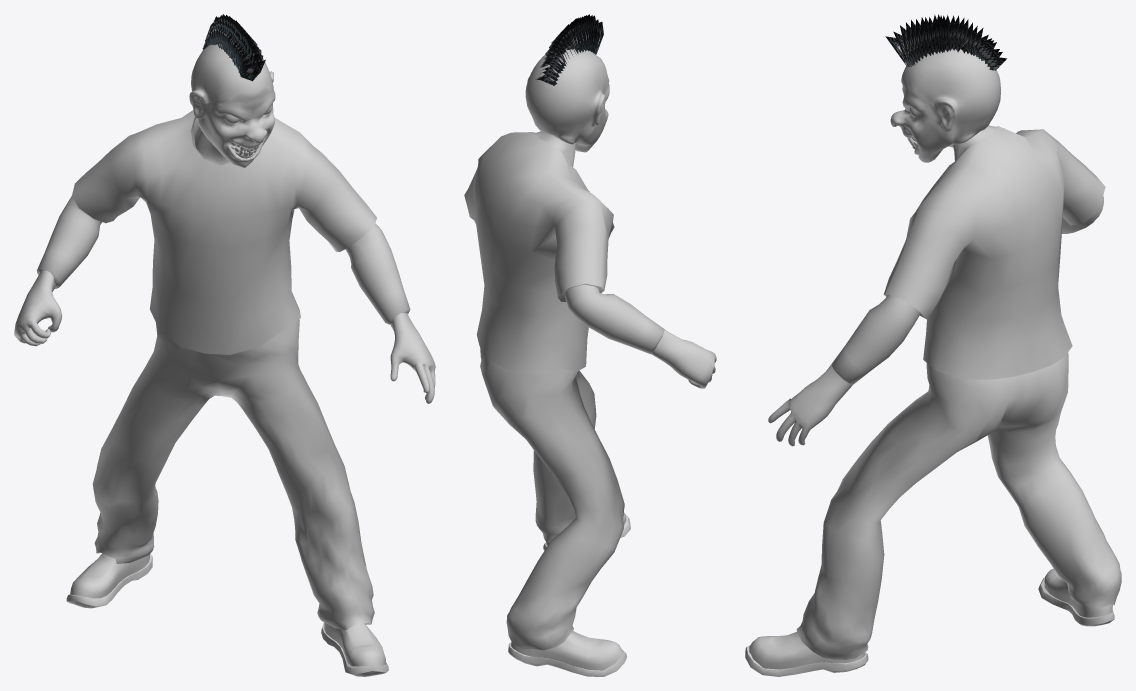
File: Attack02 (46).obj
The picture shows the model from 3 angles, left to right: view 1: azimuth 30°, elevation 25°; view 2: azimuth 150°, elevation 25°; view 3: azimuth 270°, elevation 25°; orthographic projection. The views are drawn at different scales.
Parts seen in each view (by area): view 1: shirt, pants, head, forearm_band_002, forearm_band_01, boots, boots001, hand_right, hand_left, Hair, neck; view 2: shirt, pants, head, forearm_band_01, boots, Hair, hand_right, neck; view 3: pants, shirt, head, forearm_band_002, Hair, boots001, hand_left, boots.
Part boxes in pixels (x1,y1,x2,y2): shirt: (72,110,376,354); pants: (92,319,374,629); head: (189,44,275,167); forearm_band_002: (345,223,410,324); forearm_band_01: (36,196,101,288); boots: (66,553,152,608); boots001: (321,622,388,676); hand_right: (14,270,62,346); hand_left: (390,313,435,403); Hair: (202,14,265,81); neck: (193,115,230,165); shirt: (464,132,614,371); pants: (480,348,624,650); head: (525,48,609,152); forearm_band_01: (564,284,664,353); boots: (508,631,626,676); Hair: (536,14,603,85); hand_right: (651,329,716,388); neck: (533,131,577,166); pants: (796,352,1121,659); shirt: (883,126,1105,379); head: (890,49,1000,162); forearm_band_002: (831,295,920,384); Hair: (885,14,1006,70); boots001: (745,632,868,676); hand_left: (768,364,852,446); boots: (1038,568,1114,626).
Size of the model in its own units: 98.62 by 181 by 98.28.
